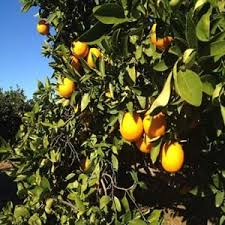orange: (118, 111, 142, 142), (162, 140, 183, 173), (142, 107, 165, 137), (86, 47, 102, 69), (56, 79, 74, 97), (71, 39, 87, 58), (37, 17, 49, 34)
